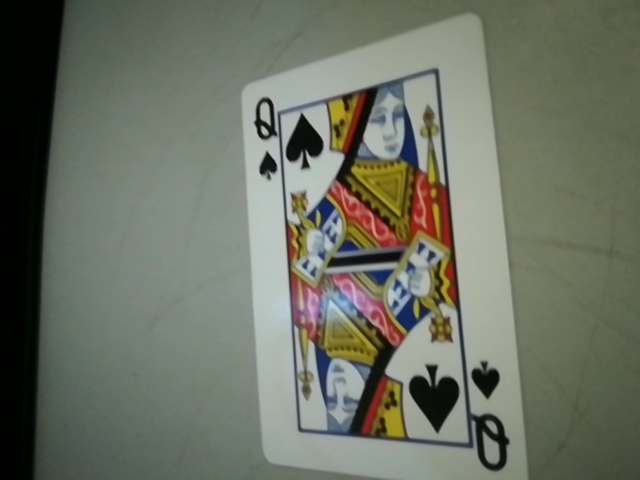ht q: (458, 354, 522, 480)
